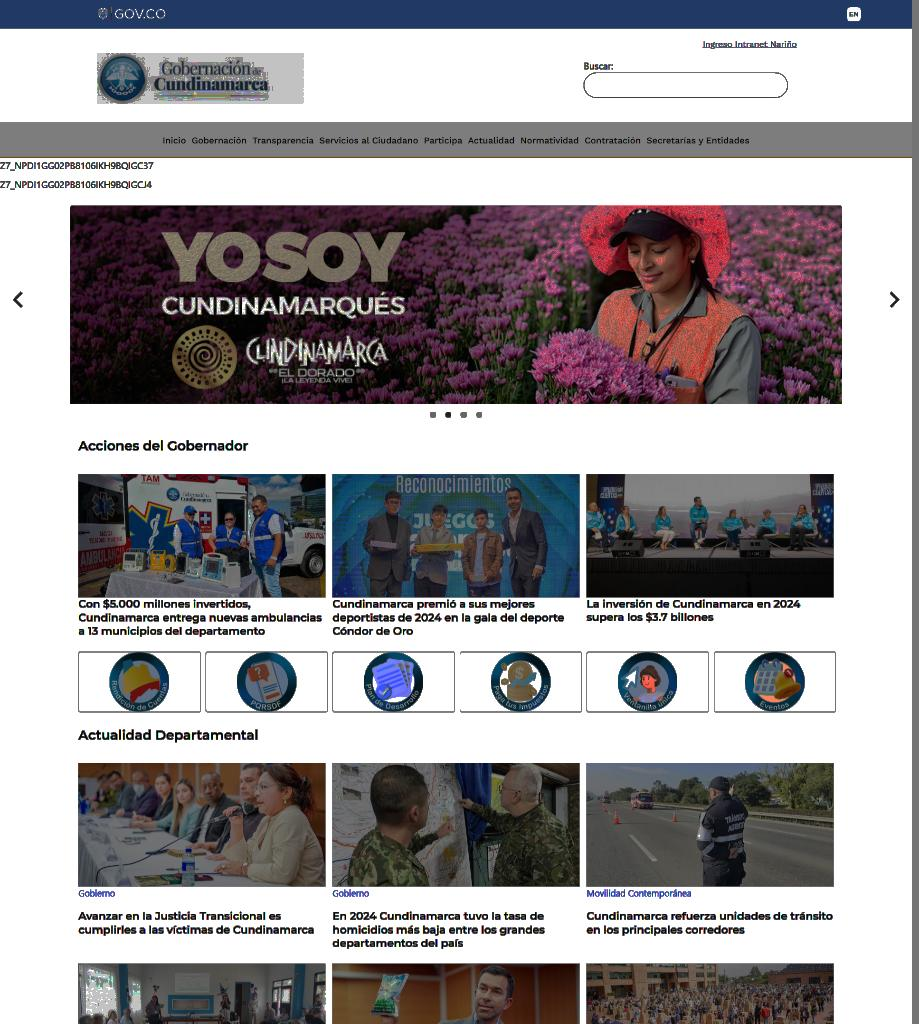banner principal: (7, 202, 904, 422)
barra govco: (94, 2, 864, 30)
btn atencion ciudadano: (318, 135, 421, 147)
btn buscador: (581, 60, 789, 98)
btn idiomas: (846, 6, 862, 22)
btn inicio: (160, 135, 190, 145)
btn inicio sesion: (699, 39, 735, 51)
btn normatividad: (516, 134, 584, 146)
btn participa: (424, 134, 464, 146)
btn transpariencia: (248, 135, 318, 147)
logogovco: (98, 5, 166, 25)
menu principal: (158, 120, 752, 152)
